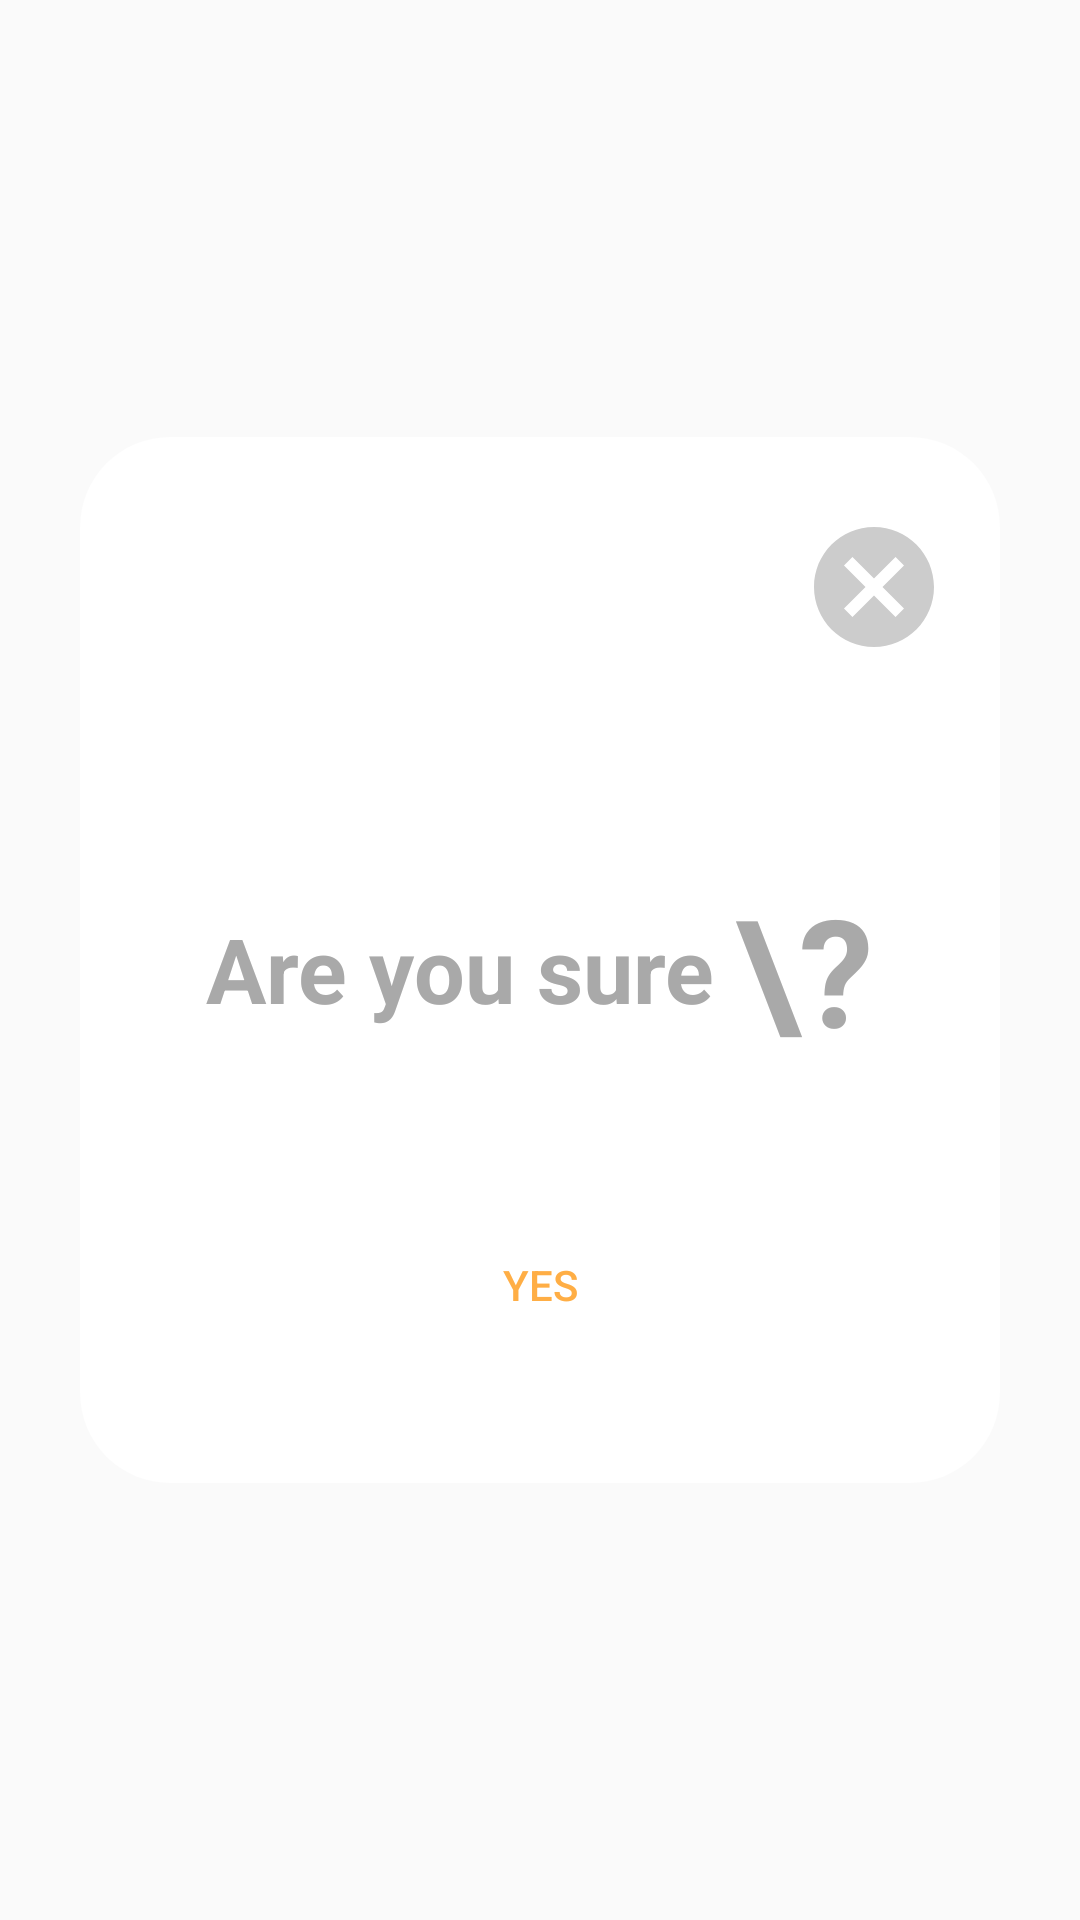

Screen size 1080 x 1920. Icon name, then its center in pixels as point (x, y):
cancel: point (874, 587)
